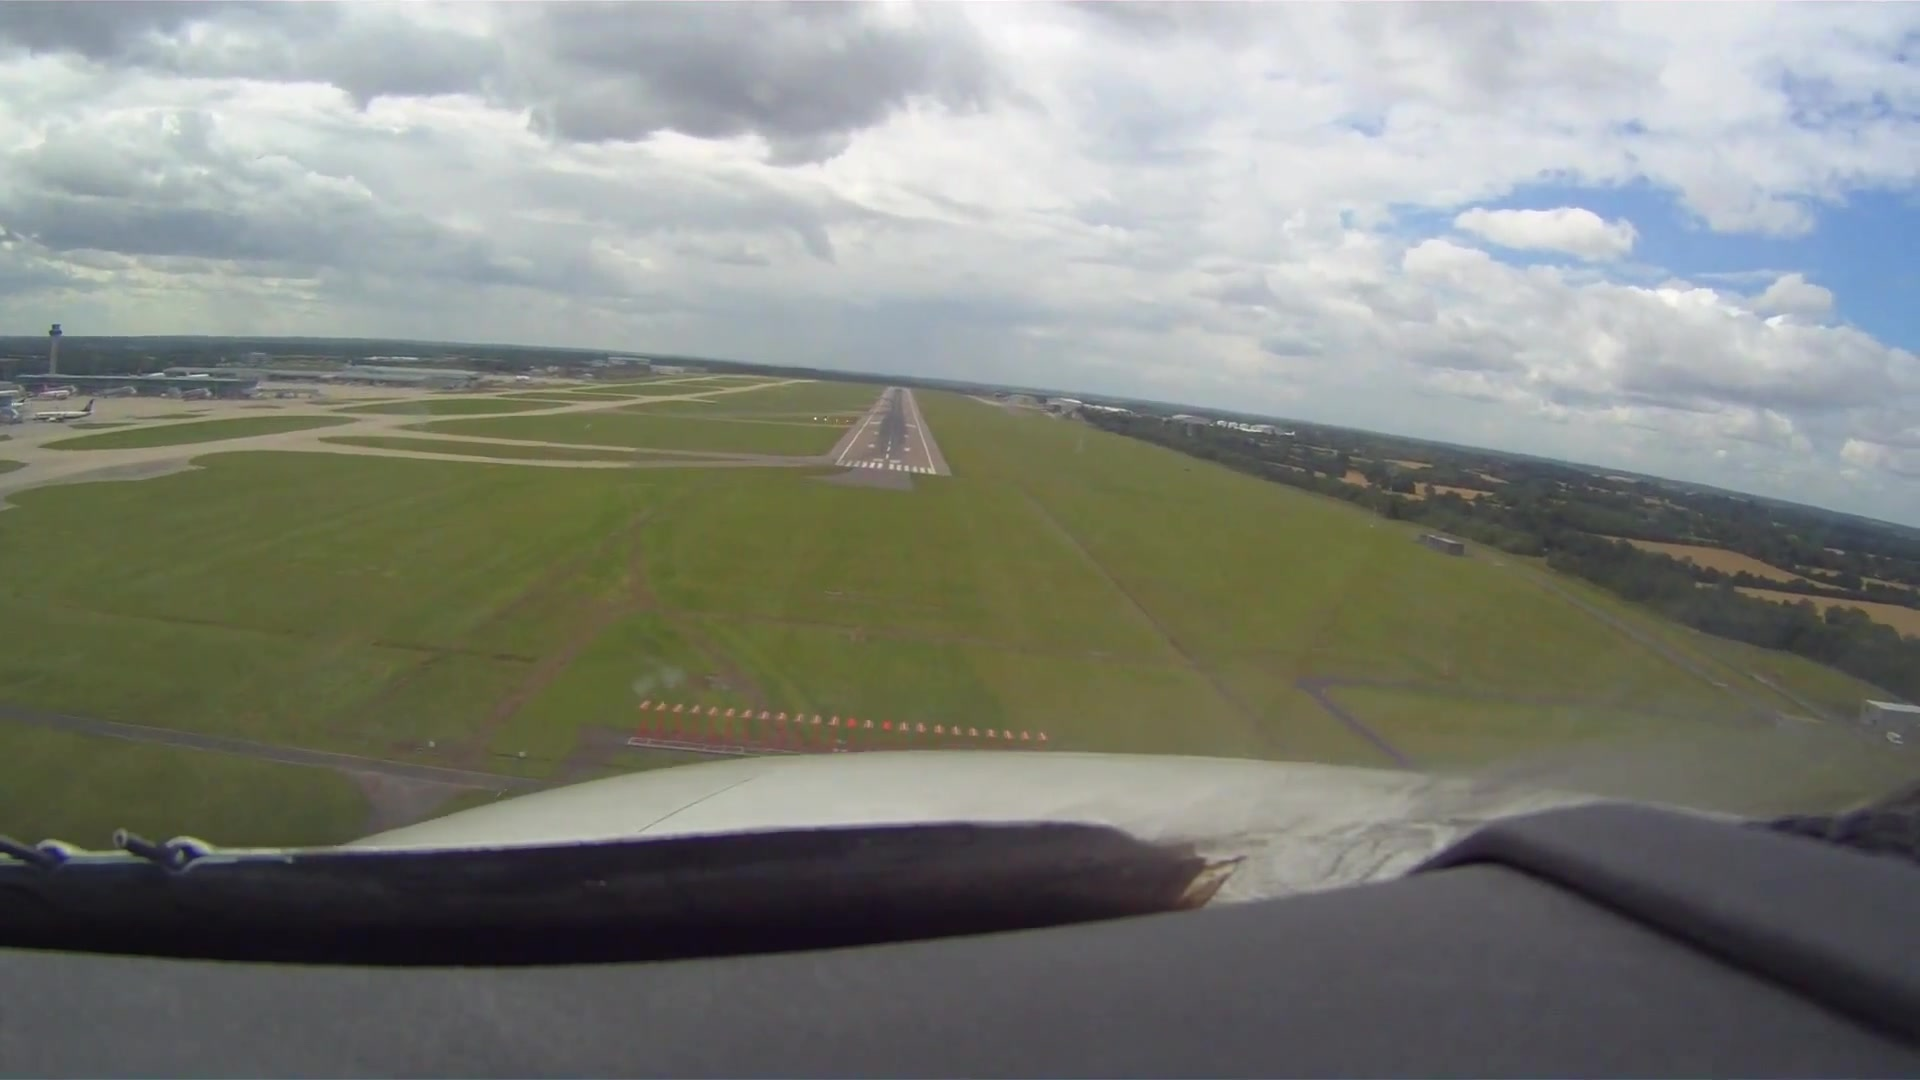entrance: (835, 458, 934, 473)
runway: (822, 386, 951, 475)
